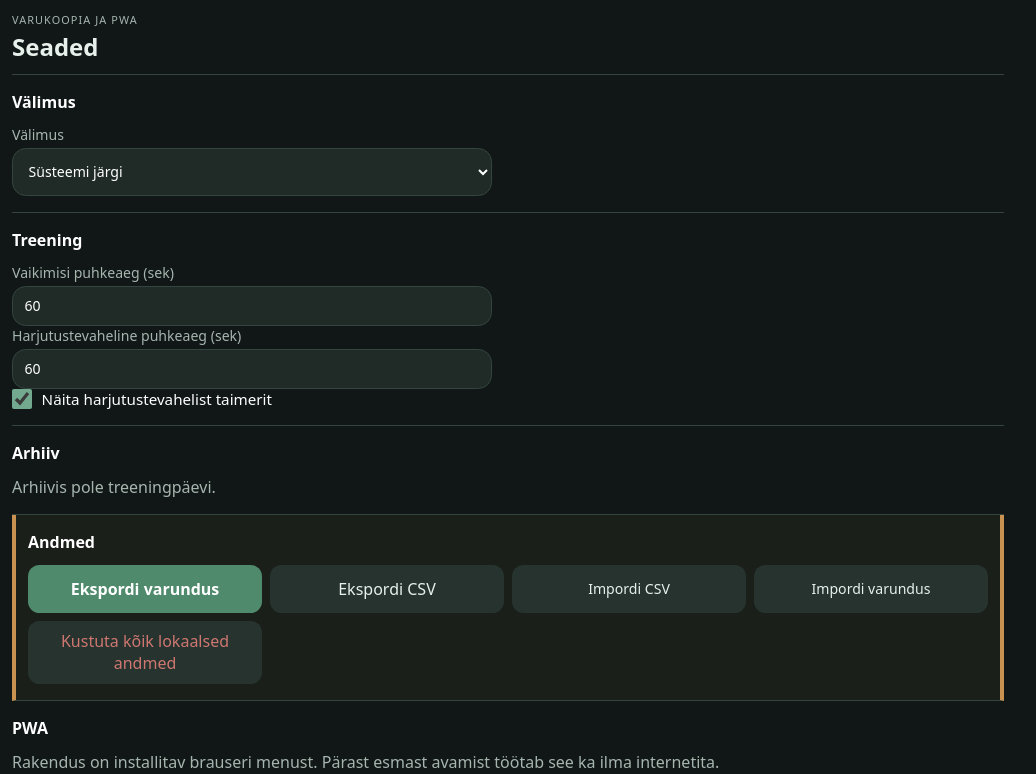
Test case: SettingsPage › clears data after confirmed deletion
Click the button "Kustuta kõik lokaalsed andmed".
click(145, 652)  # box [28,621,262,684]
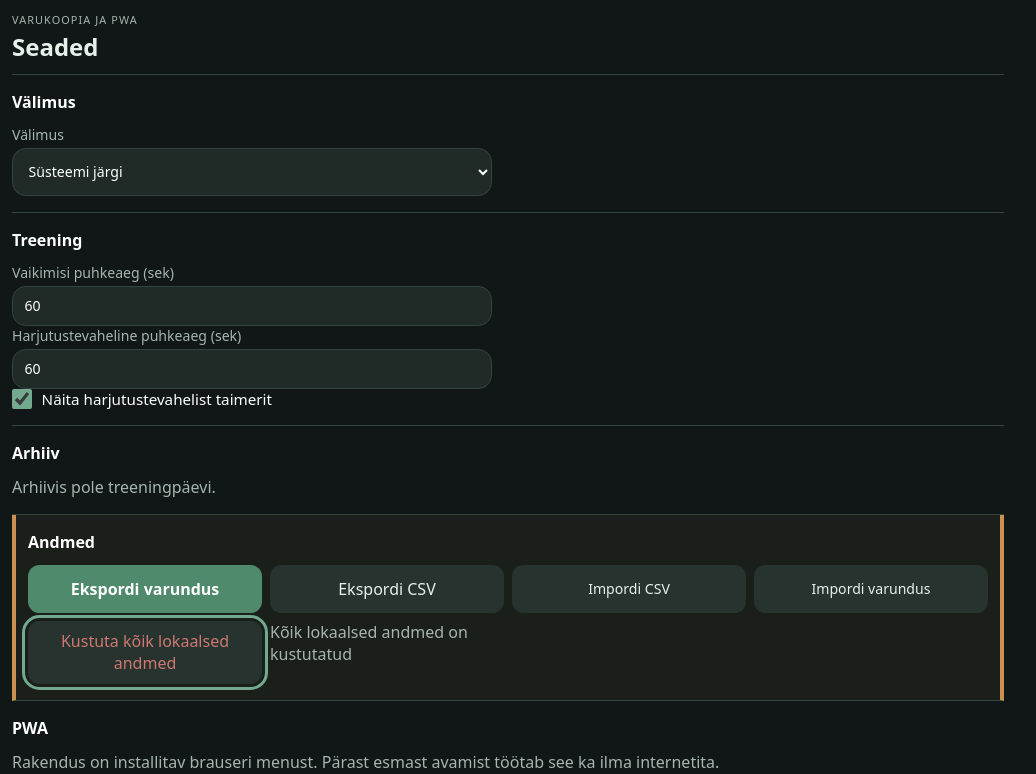
Check: the message reads "Kõik lokaalsed andmed on kustutatud", box [270,621,468,665]
